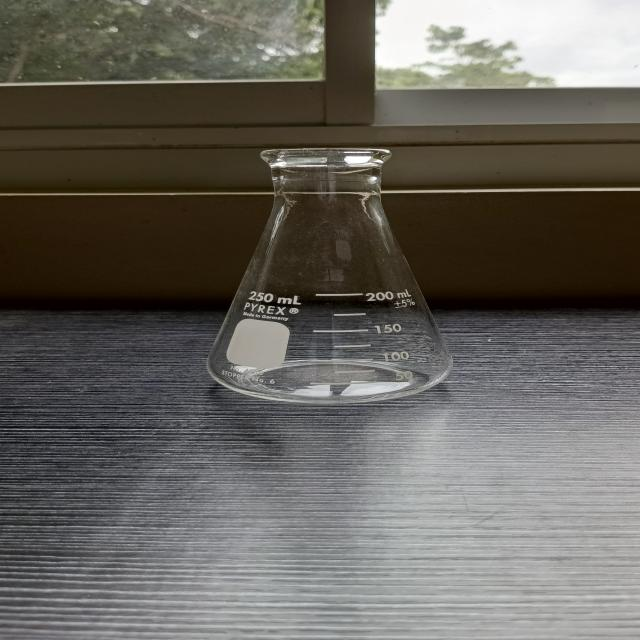erlenmeyer_flask: (199, 137, 464, 413)
